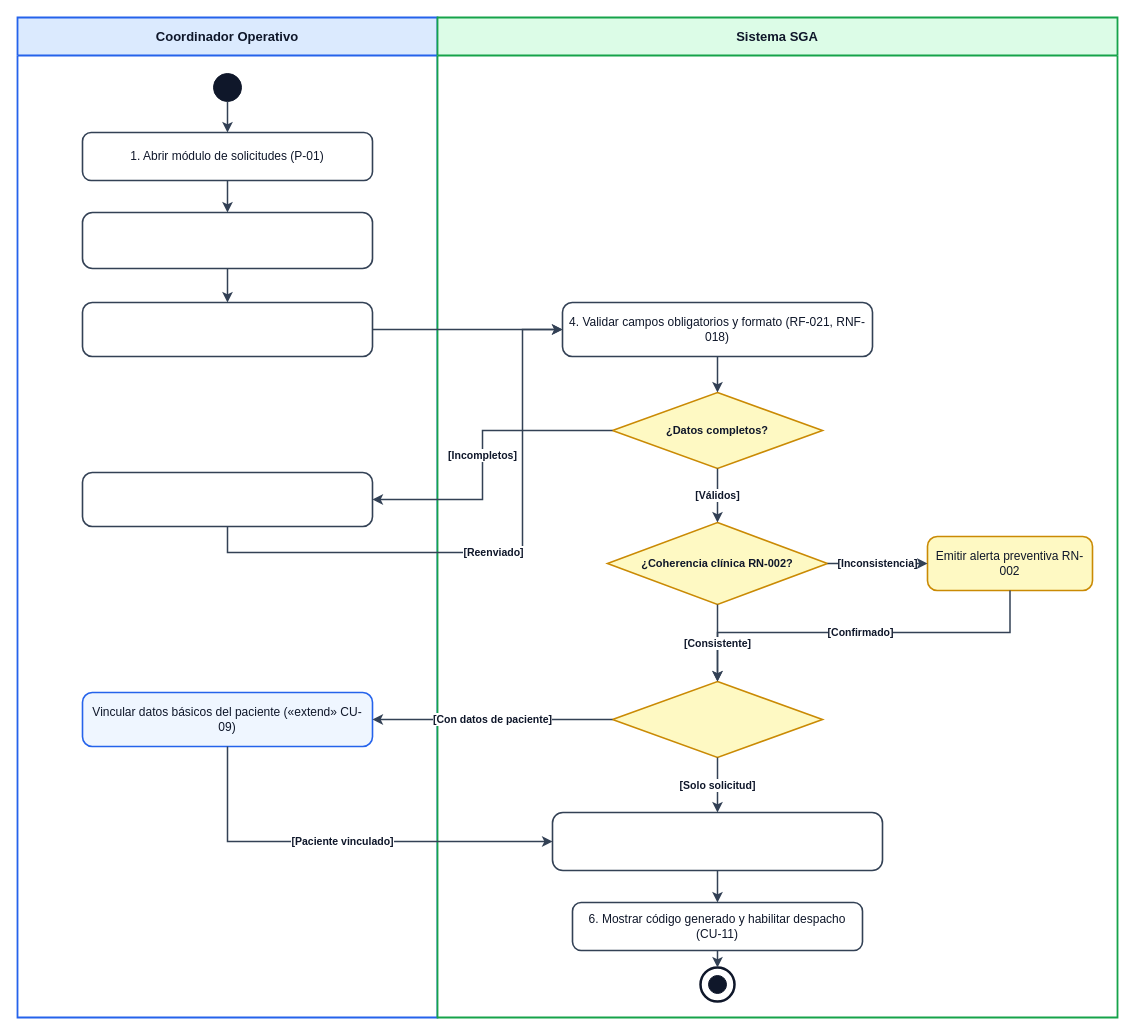
This 1136x1036 diagram has some shape labels left out. The centre of each missing label's shape, as x and y in pixels:
"2. Capturar dirección/GPS, tipo de emergencia y solicitante" belongs at point (227, 240).
"3. Clasificar prioridad (Verde / Amarillo / Naranja / Rojo) y enviar" belongs at point (227, 329).
"5. Guardar Solicitud (Solicitado), crear Servicio y Auditoría" belongs at point (717, 841).
"Corregir o completar campos obligatorios (E1)" belongs at point (227, 499).
"¿Registrar paciente ahora?" belongs at point (717, 719).
